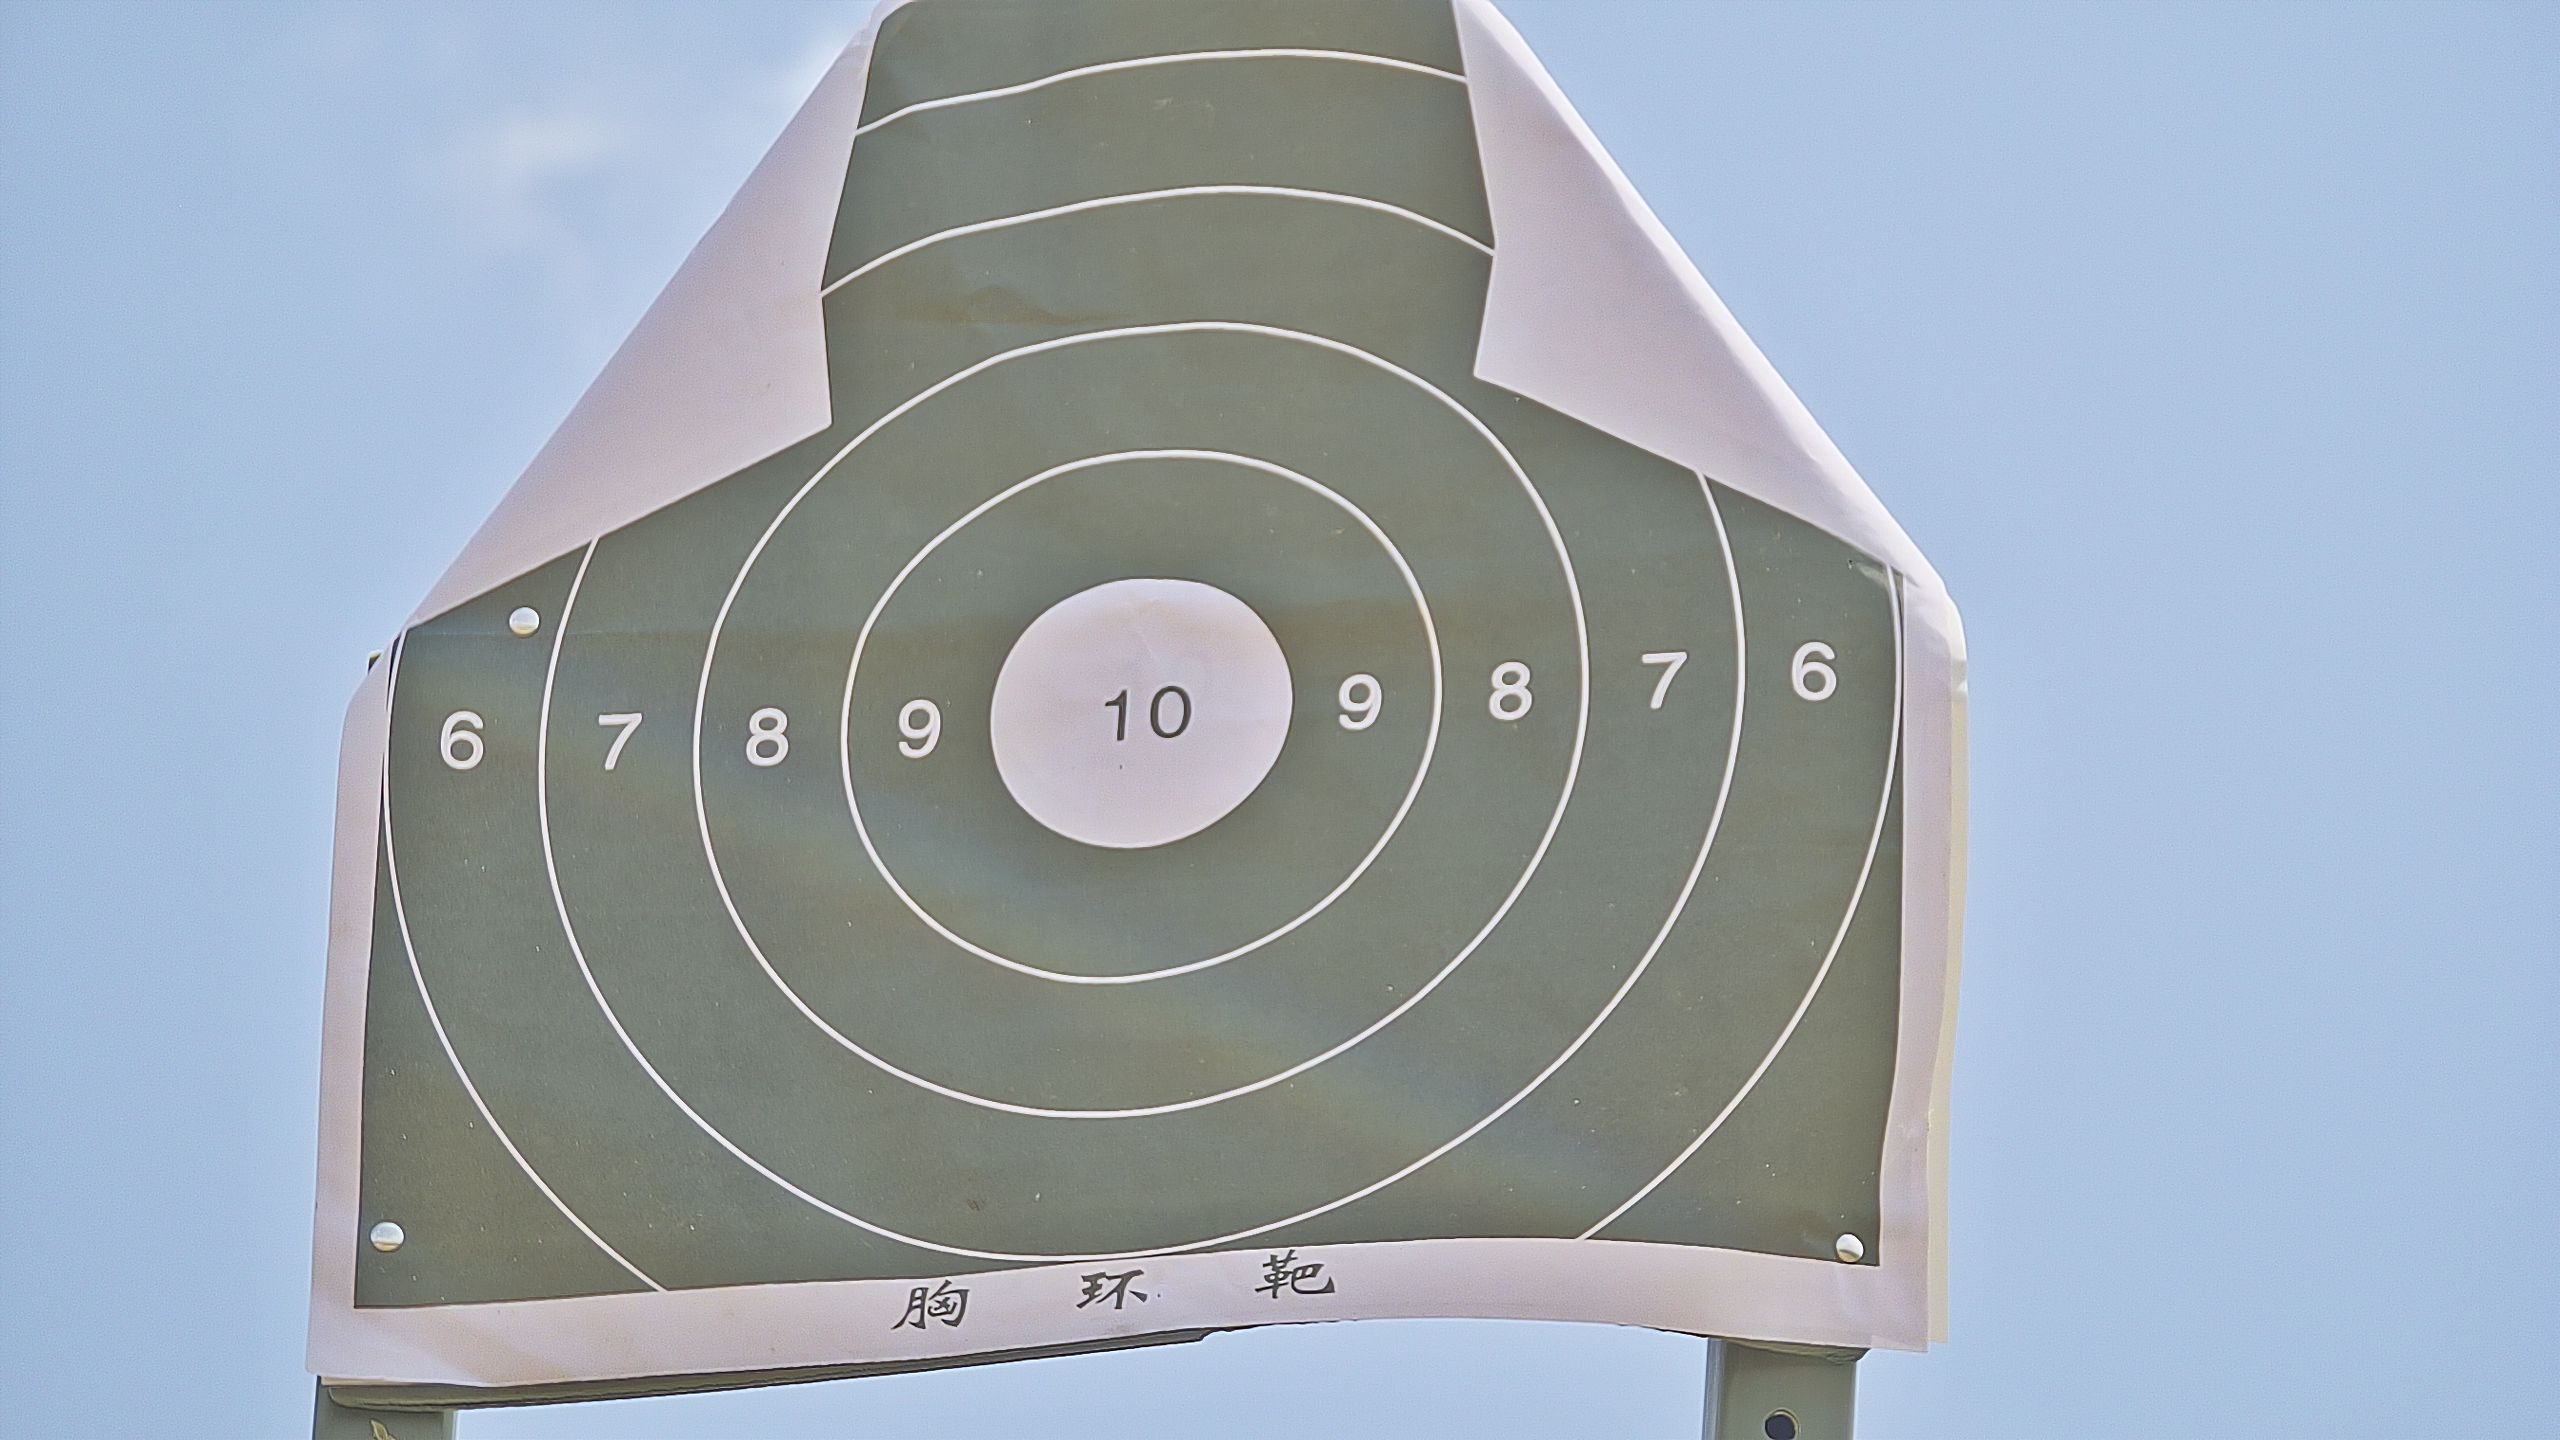target: (360, 5, 1908, 1336)
ten: (990, 573, 1291, 849)
